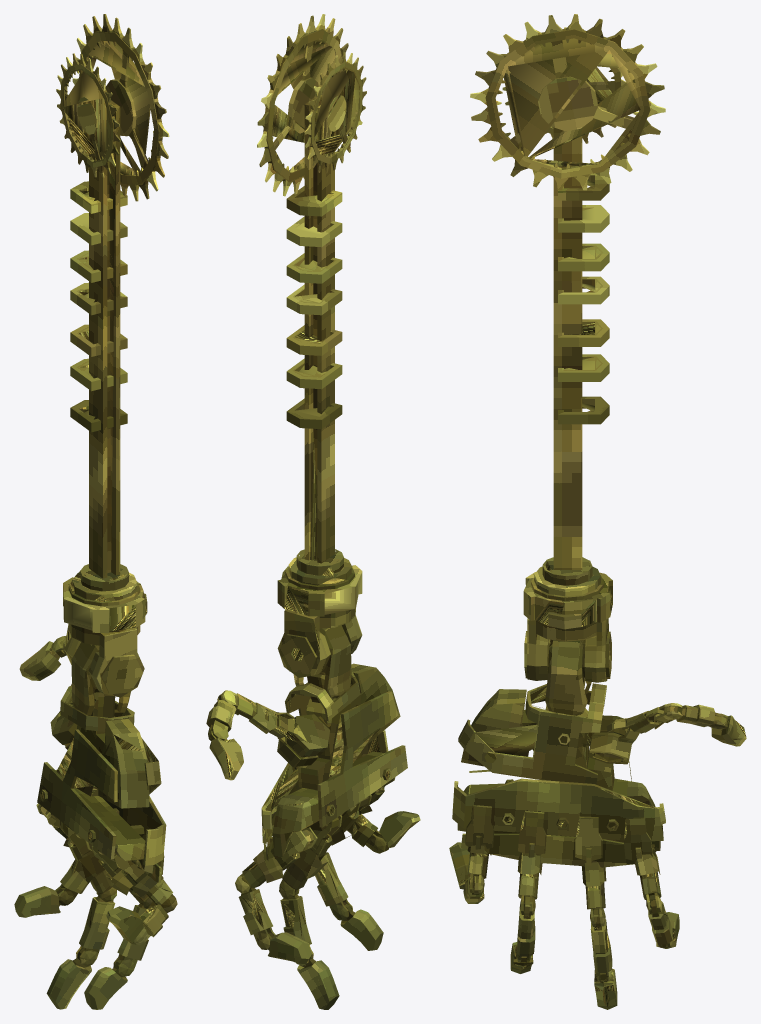
File: item_steampunk_redgreen_hand.glb
3 views of the same model, side by side, from view 1: azimuth 30°, elevation 25°; view 2: azimuth 150°, elevation 25°; view 3: azimuth 270°, elevation 25° (orthographic). The views are drawn at different scales.
Parts seen in each view (by area): view 1: redGreenHand; view 2: redGreenHand; view 3: redGreenHand.
Boxes of the visible parts, x1,y1,x2,y2 form: redGreenHand: (14, 14, 177, 1009); redGreenHand: (206, 14, 420, 1009); redGreenHand: (449, 14, 746, 1009).
Bounding box in the file's own units: 0.3177 × 2.93 × 0.7766.
1 material, 1 textured.
